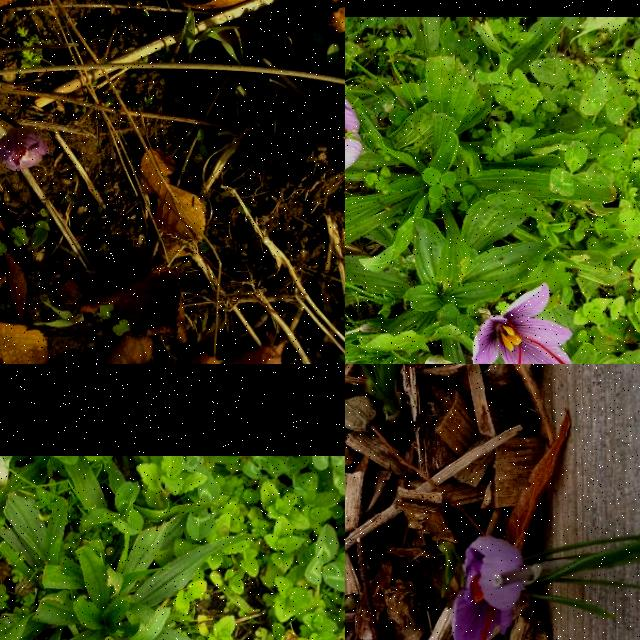flower: (472, 283, 573, 364), (451, 537, 522, 640), (0, 128, 47, 172), (345, 82, 363, 171)
